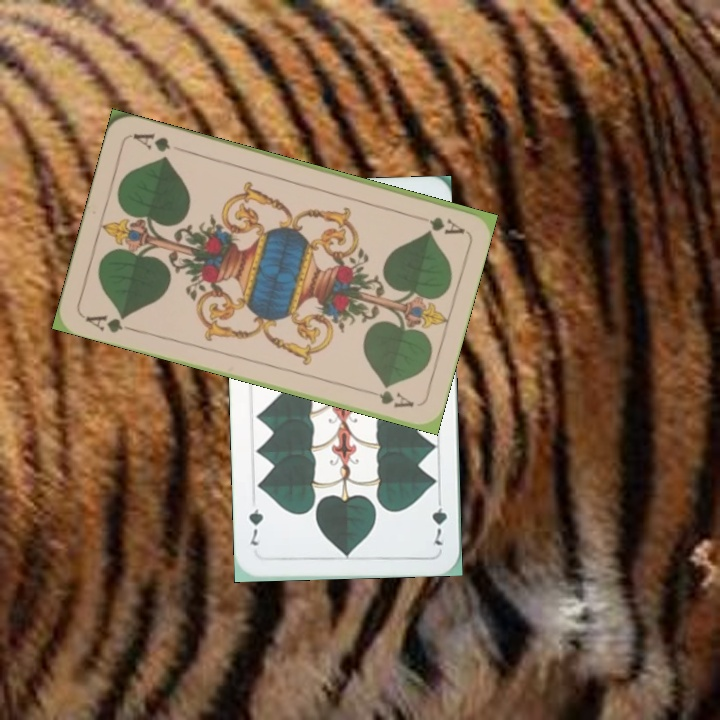G7: (427, 491, 450, 548)
GA: (408, 210, 467, 237), (82, 311, 138, 336)
